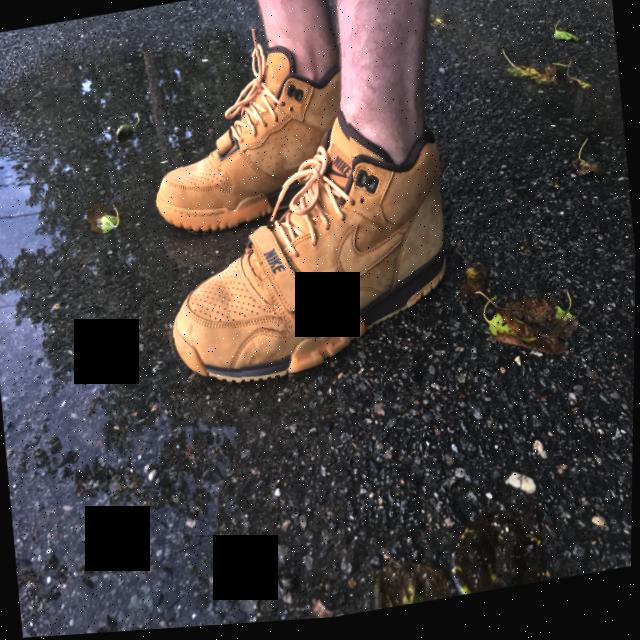shoe: (143, 93, 471, 418), (132, 10, 359, 247)
